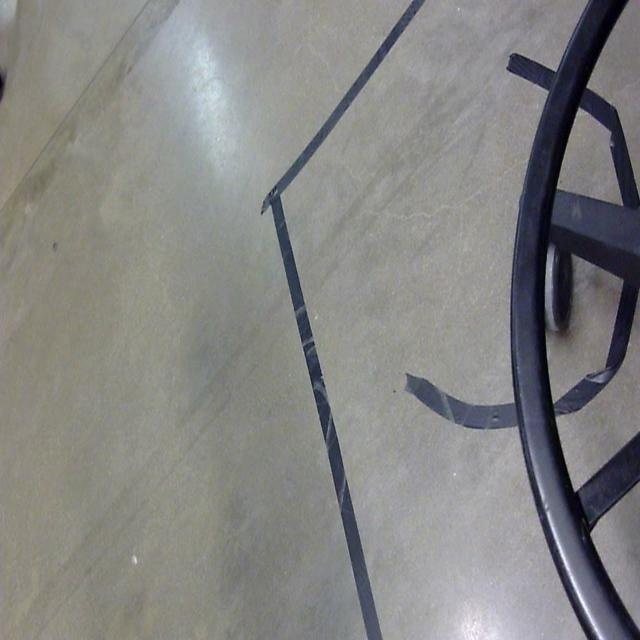tape: (243, 0, 457, 640), (370, 37, 640, 460)
